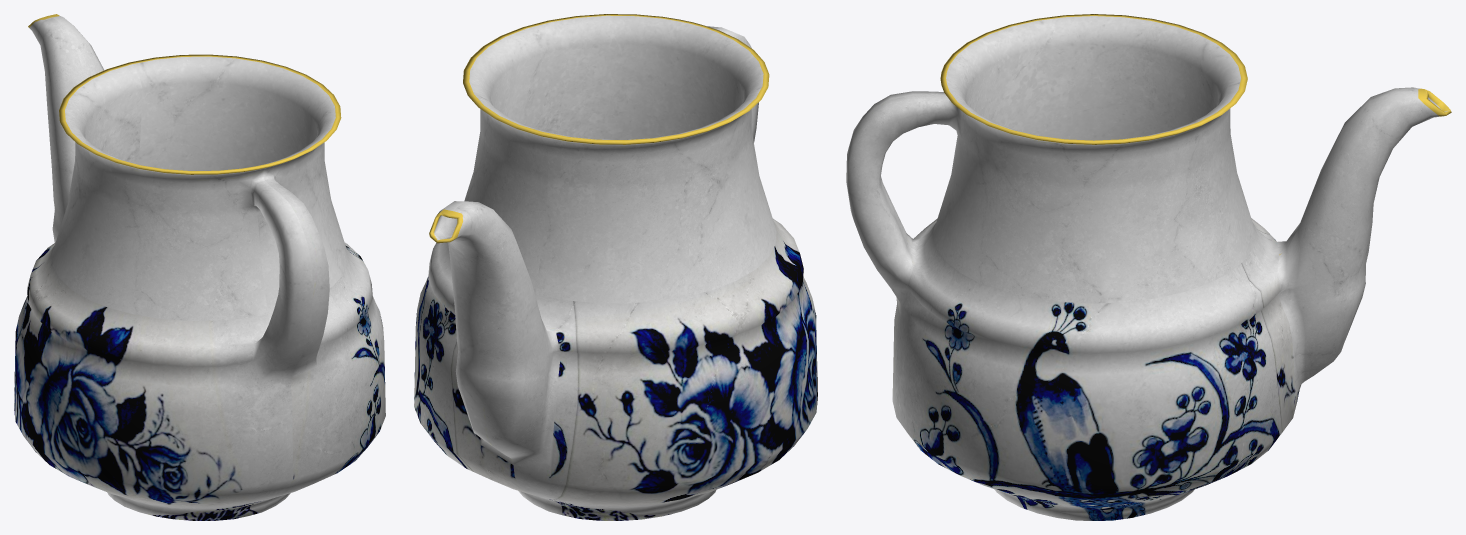
The model's file is pitcher.fbx.
3 renders of one model, left to right at view 1: azimuth 30°, elevation 25°; view 2: azimuth 150°, elevation 25°; view 3: azimuth 270°, elevation 25°, orthographic. The views are drawn at different scales.
Parts seen in each view (by area): view 1: Circle.002; view 2: Circle.002; view 3: Circle.002.
Boxes of the visible parts, x1,y1,x2,y2 form: Circle.002: [14, 14, 385, 520]; Circle.002: [414, 14, 817, 520]; Circle.002: [846, 14, 1451, 520].
Bounding box in the file's own units: 146 × 160 × 219.
